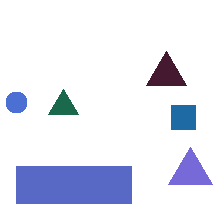circle: (6, 92, 26, 112)
rectangle: (16, 166, 131, 203), (171, 105, 195, 129)
triangle: (168, 147, 212, 184), (146, 51, 186, 85), (48, 89, 78, 114)
